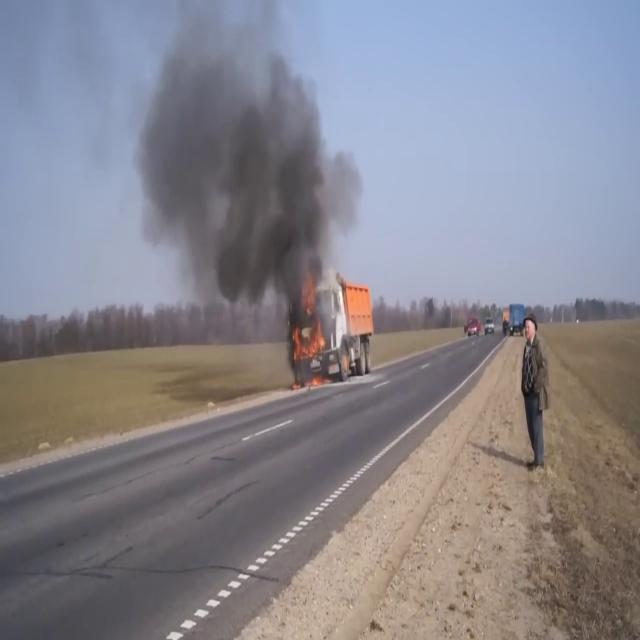Fire: (290, 286, 330, 372)
Smoke: (126, 0, 355, 328)
